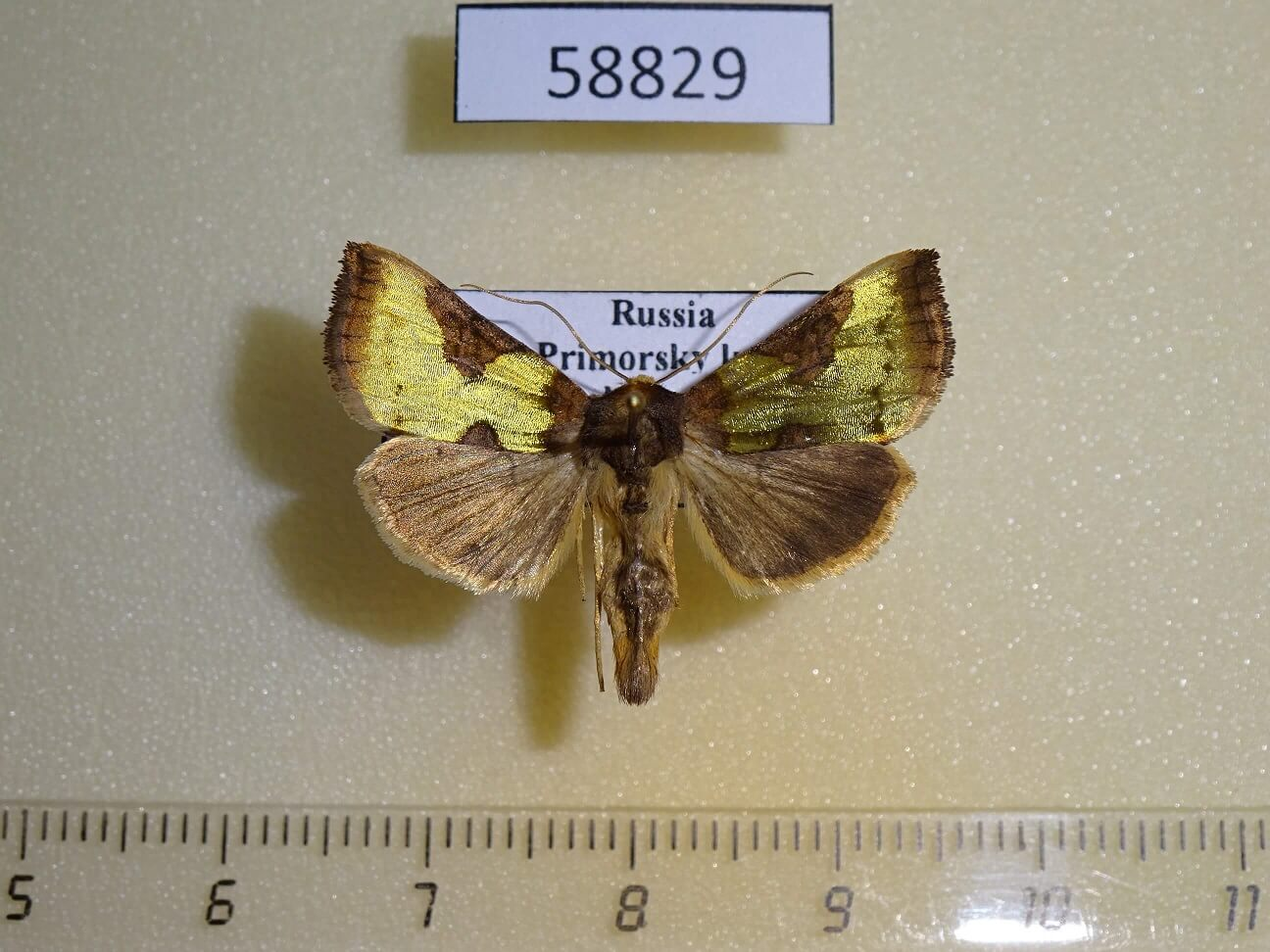Noctuidae: (323, 248, 958, 705)
